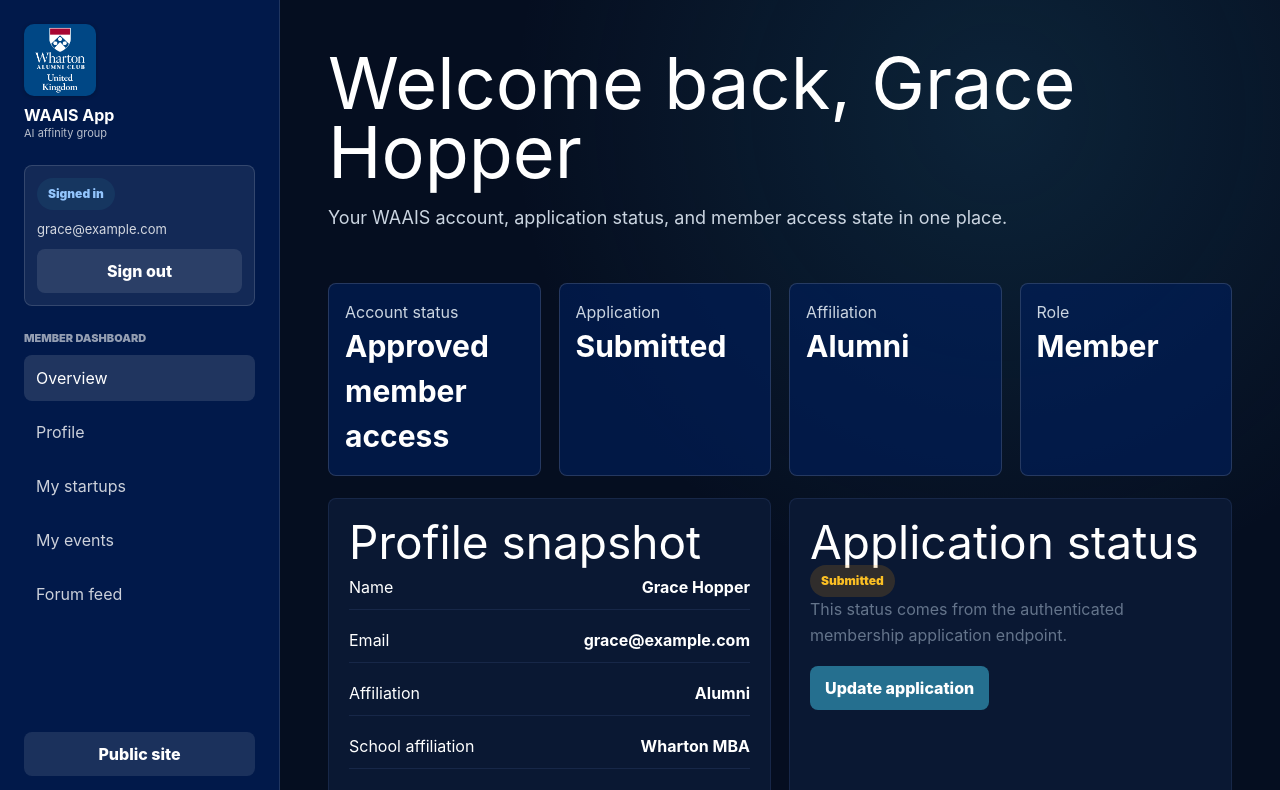
Scenario: member dashboard live state › shows a sign-out action for authenticated users and clears app state after logout
Click the button with class "secondary" showing "Sign out".
click(140, 271)  # box [37,249,242,293]
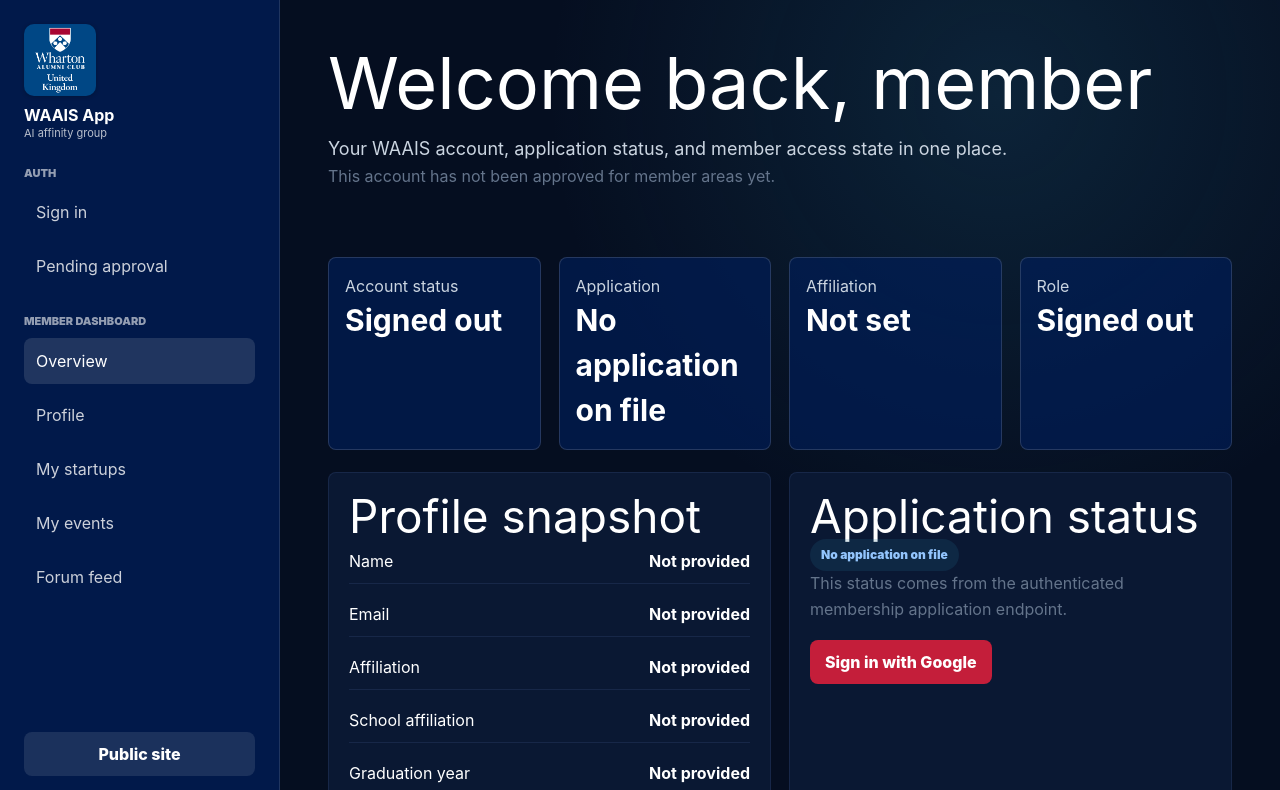
Check: the text "Sign out" is gone
